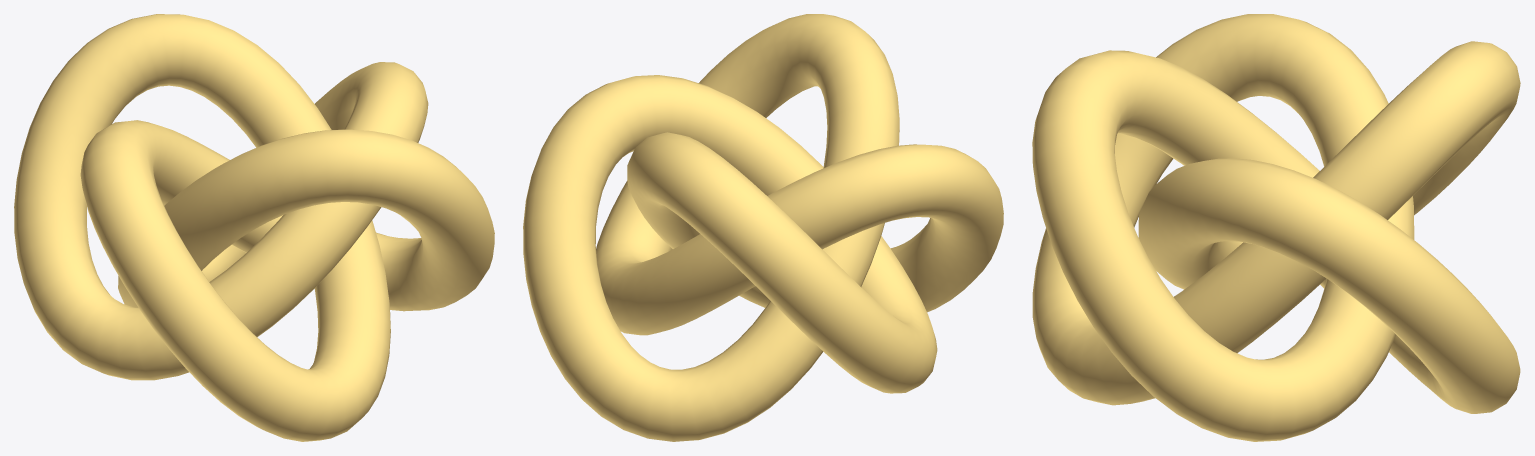
File: TorusKnot.gltf
The picture shows the model from 3 angles, left to right: view 1: azimuth 30°, elevation 25°; view 2: azimuth 150°, elevation 25°; view 3: azimuth 270°, elevation 25°; orthographic projection. The views are drawn at different scales.
Visible parts, largest first — view 1: TorusKnot; view 2: TorusKnot; view 3: TorusKnot.
Part boxes in pixels (left/top/right/bottom): TorusKnot: left=14, top=14, right=494, bottom=441; TorusKnot: left=523, top=14, right=1003, bottom=441; TorusKnot: left=1032, top=14, right=1520, bottom=441.
Size of the model in its own units: 1.79 by 1.37 by 1.79.
